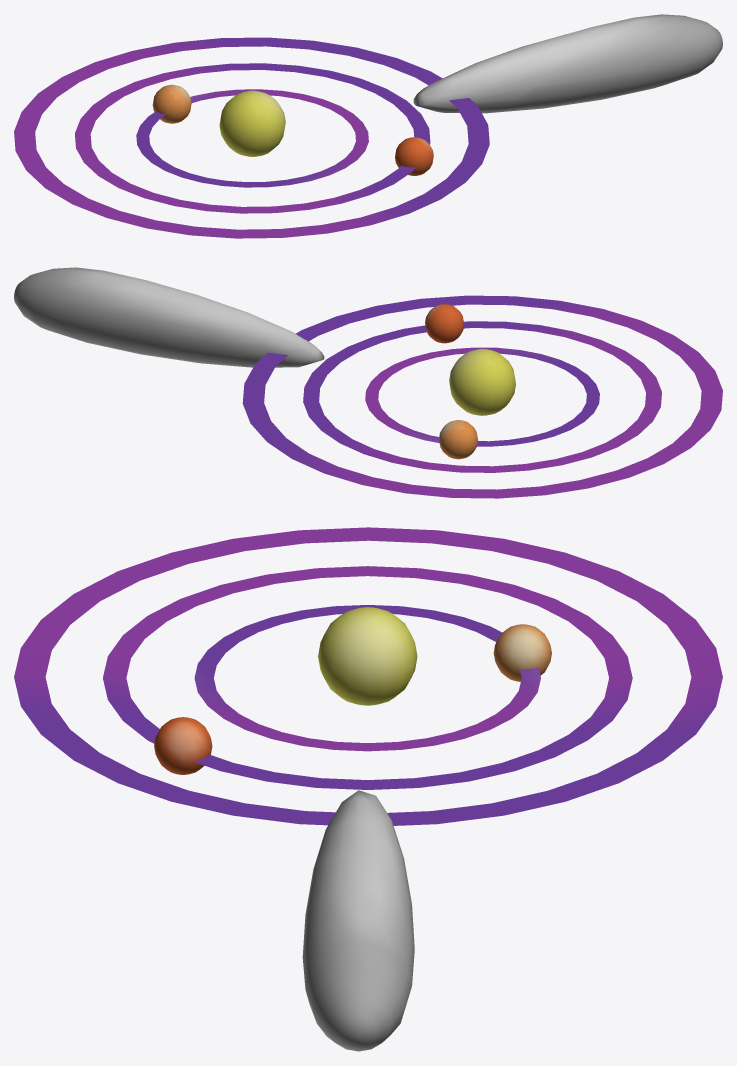
Rendered from controller-ascii.fbx.
3 renders of one model, top to bottom at view 1: azimuth 30°, elevation 25°; view 2: azimuth 150°, elevation 25°; view 3: azimuth 270°, elevation 25°, orthographic. The views are drawn at different scales.
Parts seen in each view (by area): view 1: rings, inner-sphere, sphere-ring-inner, sphere-ring-outer; view 2: rings, inner-sphere, sphere-ring-outer, sphere-ring-inner; view 3: rings, inner-sphere, sphere-ring-outer, sphere-ring-inner.
Boxes of the visible parts, x1=… form: rings: x1=14, y1=14, x2=722, y2=238; inner-sphere: x1=219, y1=90, x2=285, y2=156; sphere-ring-inner: x1=152, y1=84, x2=191, y2=123; sphere-ring-outer: x1=395, y1=137, x2=433, y2=175; rings: x1=14, y1=267, x2=722, y2=498; inner-sphere: x1=449, y1=349, x2=515, y2=415; sphere-ring-outer: x1=425, y1=304, x2=464, y2=343; sphere-ring-inner: x1=439, y1=420, x2=477, y2=459; rings: x1=14, y1=527, x2=722, y2=1051; inner-sphere: x1=318, y1=607, x2=417, y2=705; sphere-ring-outer: x1=154, y1=717, x2=212, y2=774; sphere-ring-inner: x1=493, y1=624, x2=551, y2=681.
Size of the model in its own units: 26.64 by 3.24 by 16.36.
